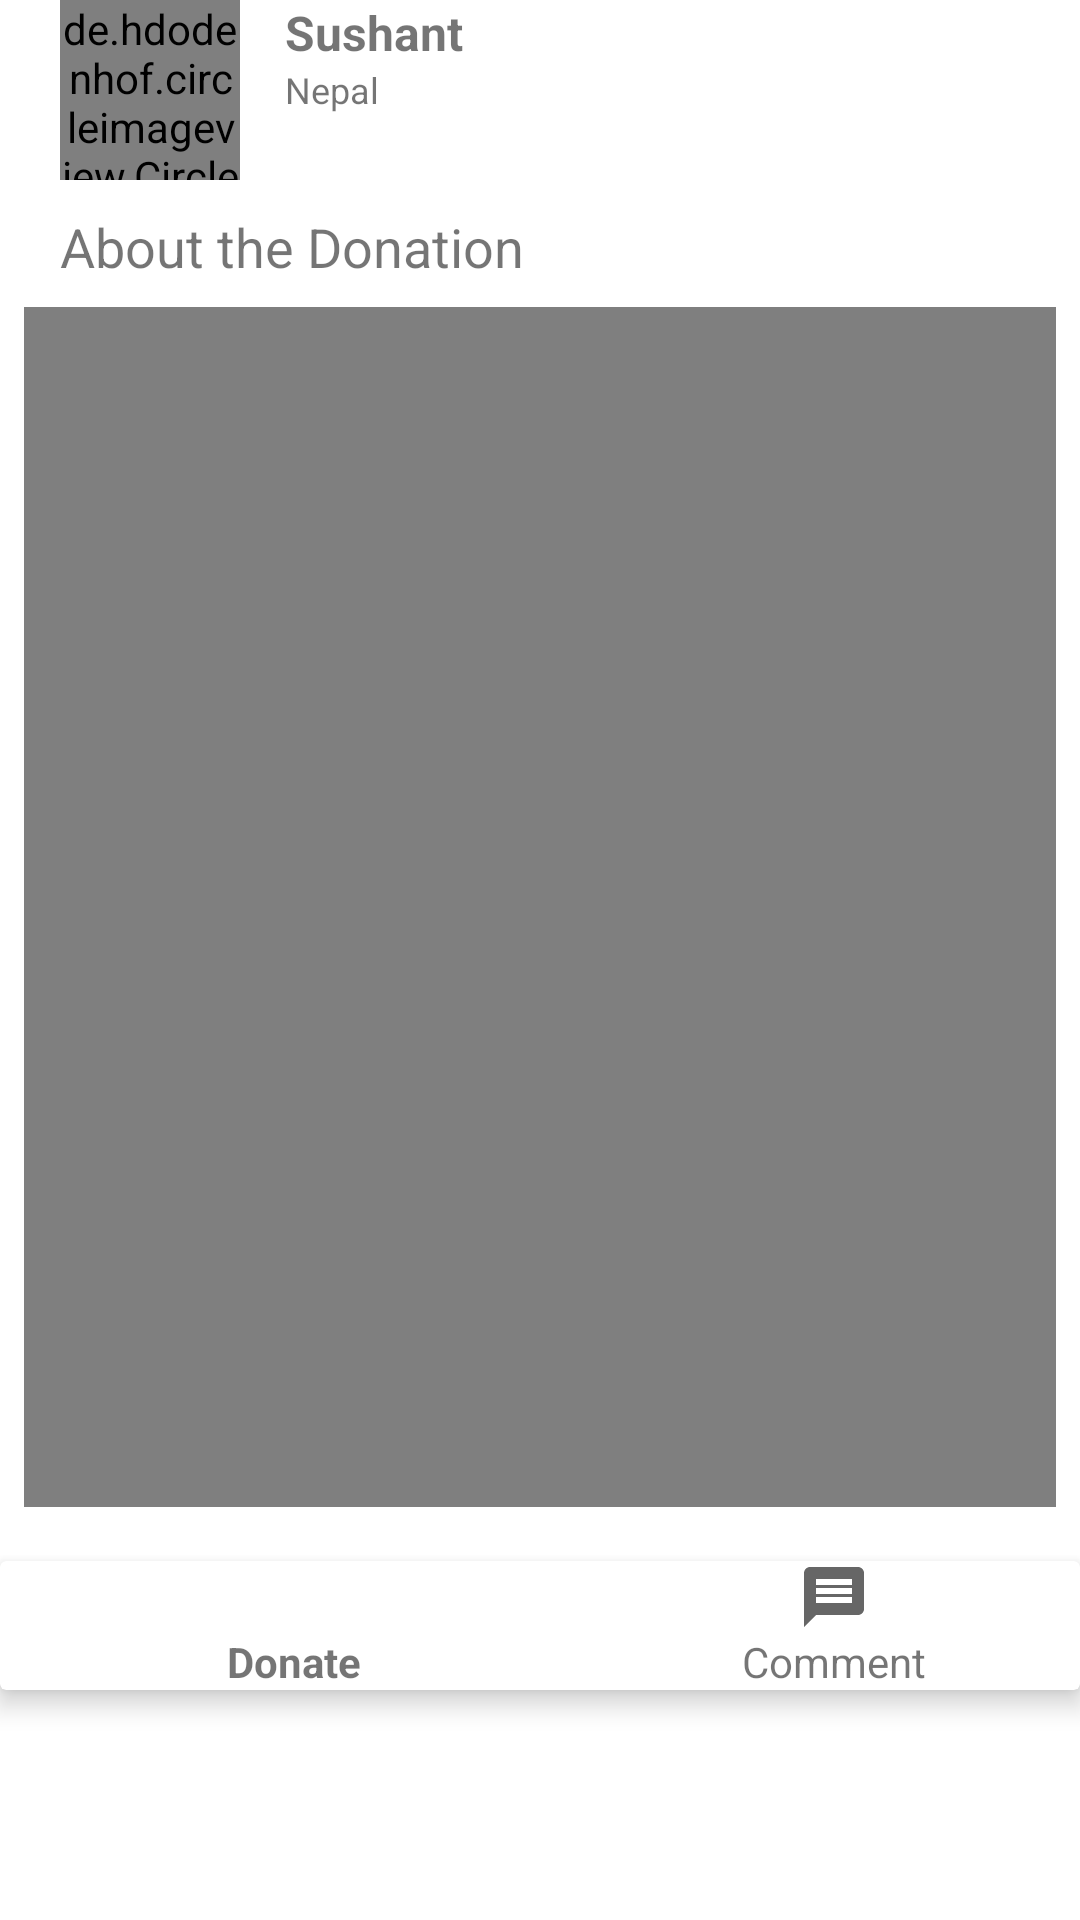

Named icons in this screenshot (1080×1920) and their centers, (x,y):
message: (834,1597)
